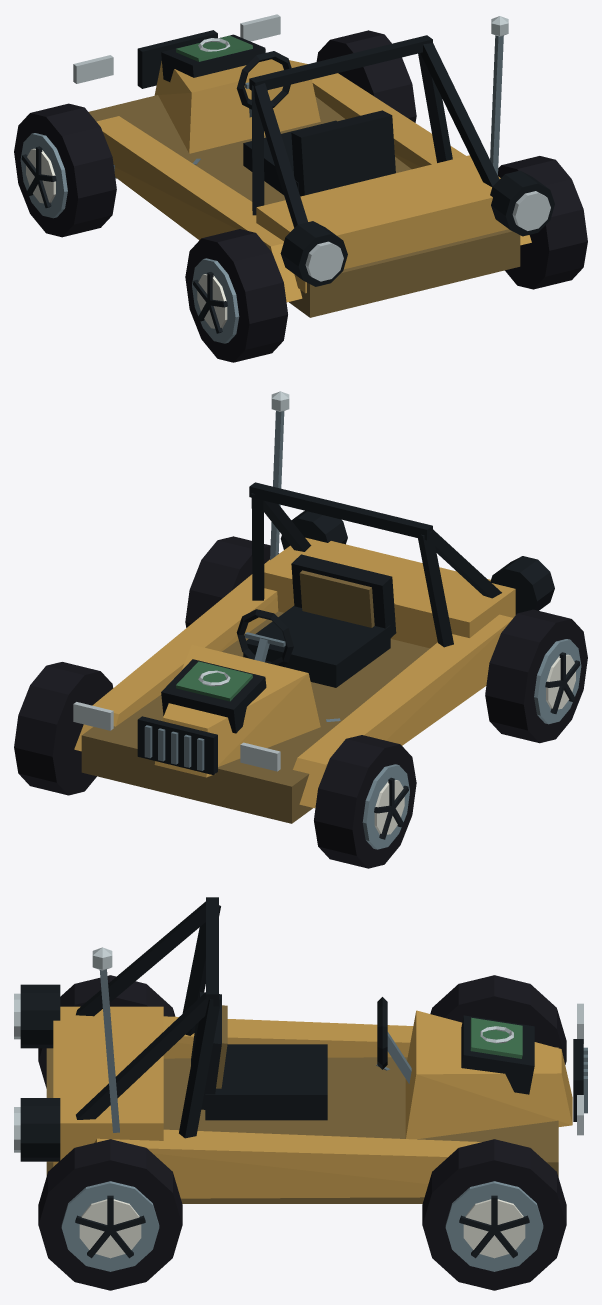
Rendered from kart.glb.
3 views of the same model, one above another, from view 1: azimuth 30°, elevation 25°; view 2: azimuth 150°, elevation 25°; view 3: azimuth 270°, elevation 25° (orthographic). The views are drawn at different scales.
Parts seen in each view (by area): view 1: identity-buggy-buggy-offroad-frame, wheel-rear-left, wheel-front-left, identity-buggy-driver-cockpit, identity-buggy-motif-thrusters, wheel-rear-right, wheel-front-right, identity-buggy-motif-scanner, identity-buggy-motif-antenna; view 2: identity-buggy-buggy-offroad-frame, identity-buggy-driver-cockpit, wheel-front-left, wheel-rear-left, wheel-front-right, identity-buggy-motif-scanner, identity-buggy-motif-thrusters, wheel-rear-right, identity-buggy-motif-antenna; view 3: identity-buggy-buggy-offroad-frame, wheel-front-right, wheel-rear-right, identity-buggy-driver-cockpit, identity-buggy-motif-thrusters, wheel-front-left, identity-buggy-motif-scanner, wheel-rear-left, identity-buggy-motif-antenna.
Boxes of the visible parts, x1,y1,x2,y2 form: identity-buggy-buggy-offroad-frame: (73, 14, 531, 317); wheel-rear-left: (185, 229, 287, 362); wheel-front-left: (14, 103, 116, 237); identity-buggy-driver-cockpit: (236, 51, 395, 196); identity-buggy-motif-thrusters: (280, 170, 554, 286); wheel-rear-right: (498, 156, 587, 289); wheel-front-right: (316, 30, 416, 122); identity-buggy-motif-scanner: (161, 34, 265, 81); identity-buggy-motif-antenna: (490, 16, 508, 175); identity-buggy-buggy-offroad-frame: (73, 482, 515, 823); identity-buggy-driver-cockpit: (236, 554, 396, 687); wheel-front-left: (314, 735, 416, 868); wheel-rear-left: (485, 609, 587, 743); wheel-front-right: (14, 662, 113, 795); identity-buggy-motif-scanner: (161, 659, 266, 733); identity-buggy-motif-thrusters: (280, 510, 554, 614); wheel-rear-right: (185, 536, 278, 627); identity-buggy-motif-antenna: (270, 391, 289, 559); identity-buggy-buggy-offroad-frame: (46, 897, 587, 1203); wheel-front-right: (422, 1139, 566, 1290); wheel-rear-right: (38, 1139, 182, 1290); identity-buggy-driver-cockpit: (191, 992, 411, 1120); identity-buggy-motif-thrusters: (14, 984, 60, 1161); wheel-front-left: (430, 975, 566, 1064); identity-buggy-motif-scanner: (461, 1015, 534, 1094); wheel-rear-left: (38, 975, 175, 1088); identity-buggy-motif-antenna: (92, 947, 119, 1132).
Bounding box in the file's own units: 2.31 × 1.72 × 2.87.
